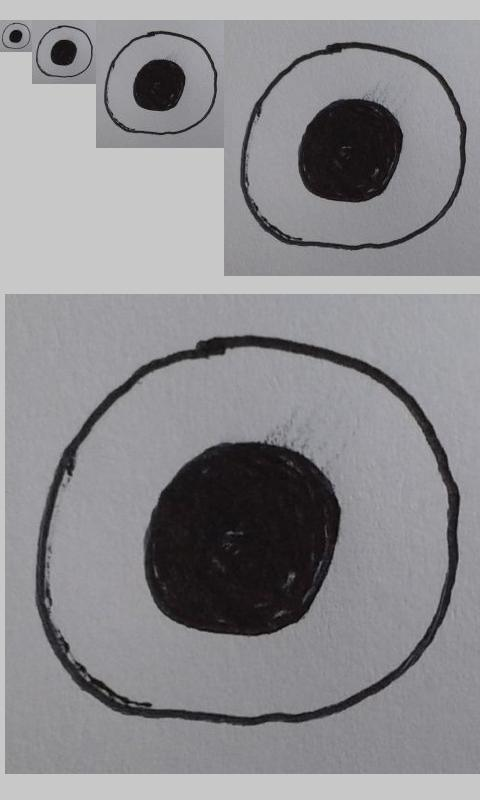radio_button: (31, 330, 465, 729), (239, 41, 468, 251), (104, 29, 219, 136), (35, 24, 94, 79), (1, 22, 31, 50)
